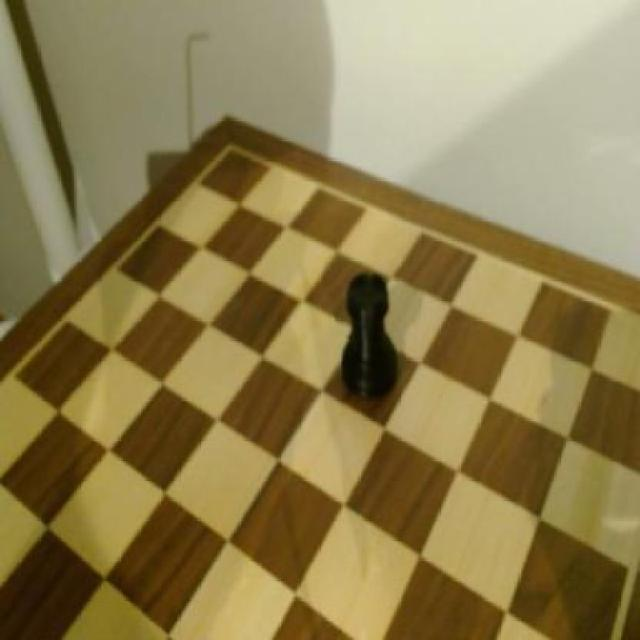black-queen: (336, 267, 406, 408)
